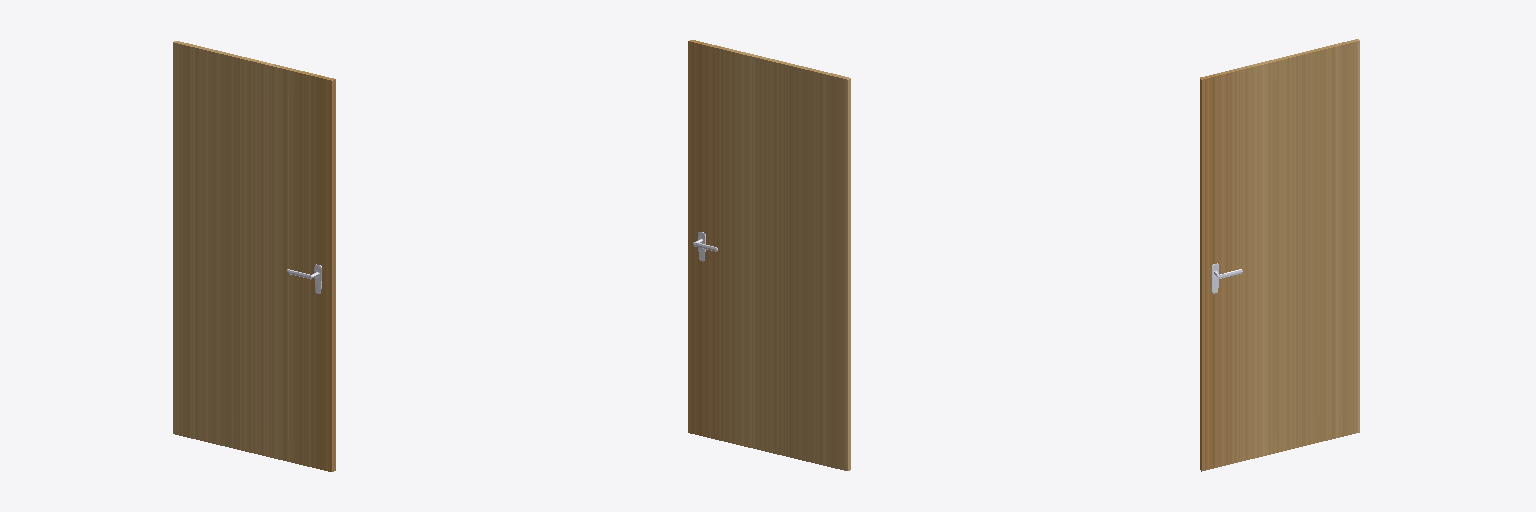
The picture shows the model from 3 angles: view 1: azimuth 30°, elevation 25°; view 2: azimuth 210°, elevation 25°; view 3: azimuth 270°, elevation 25°; orthographic projection.
Parts seen in each view (by area): view 1: Panel_002_Panel_006; view 2: Panel_002_Panel_006; view 3: Panel_002_Panel_006.
Boxes of the visible parts, <box> form: Panel_002_Panel_006: <box>173,41,335,471</box>; Panel_002_Panel_006: <box>688,40,850,470</box>; Panel_002_Panel_006: <box>1200,39,1359,471</box>.
Size of the model in its own units: 0.4731 by 2 by 0.7446.
Materials: 2 (2 with a texture image).